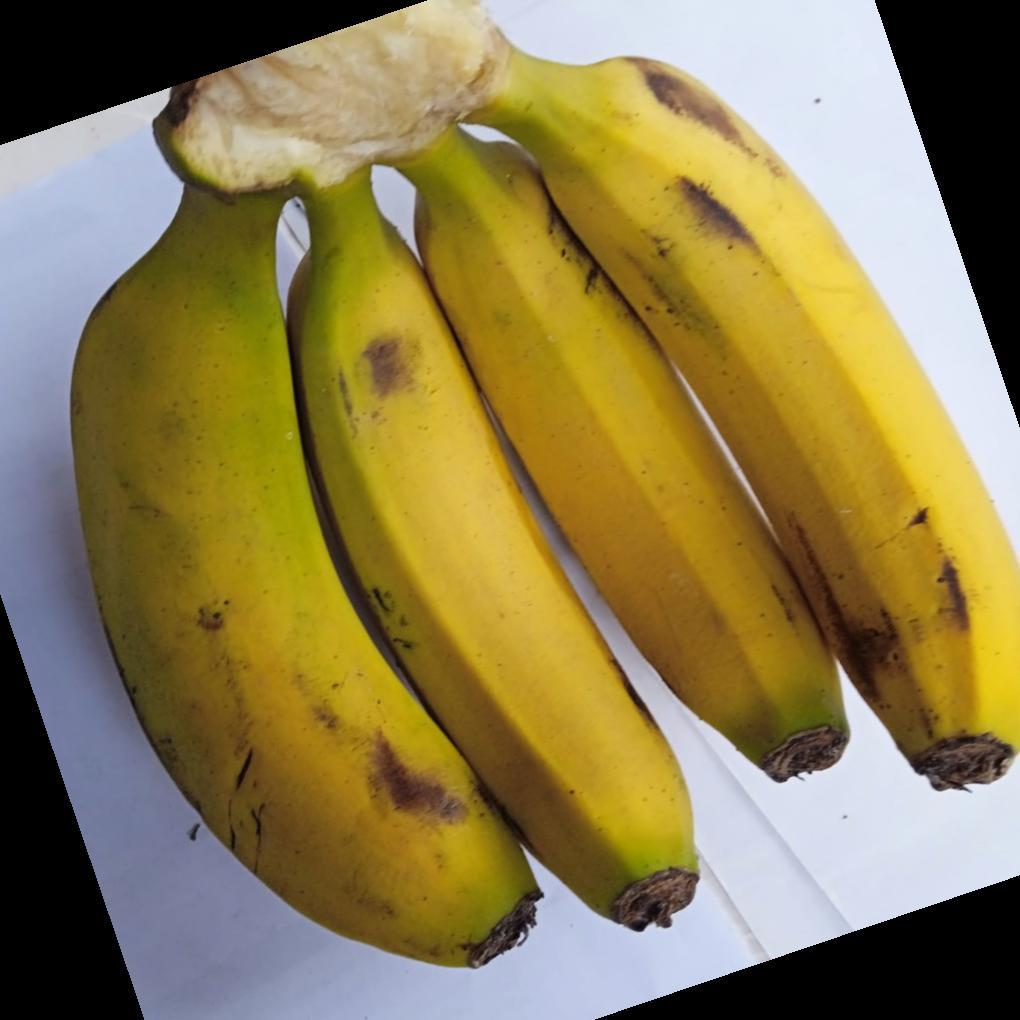Banana Ripe: (55, 87, 682, 1020), (281, 0, 860, 961), (463, 0, 1020, 847)
